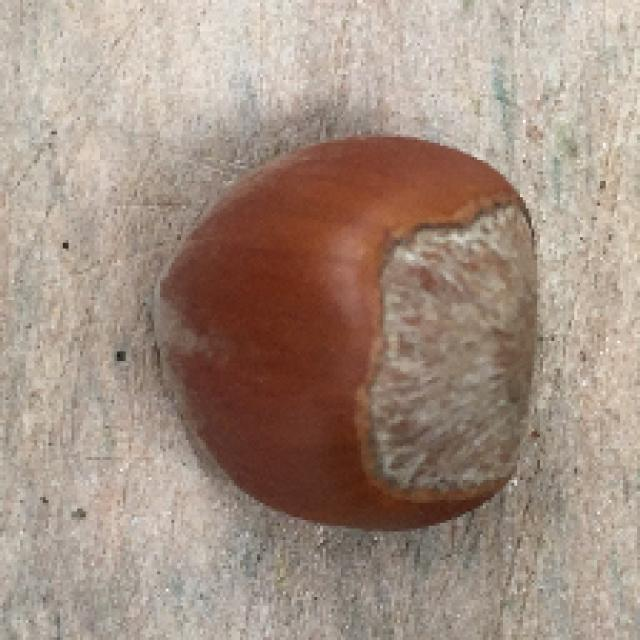qualityHazelnut: (152, 131, 540, 535)
